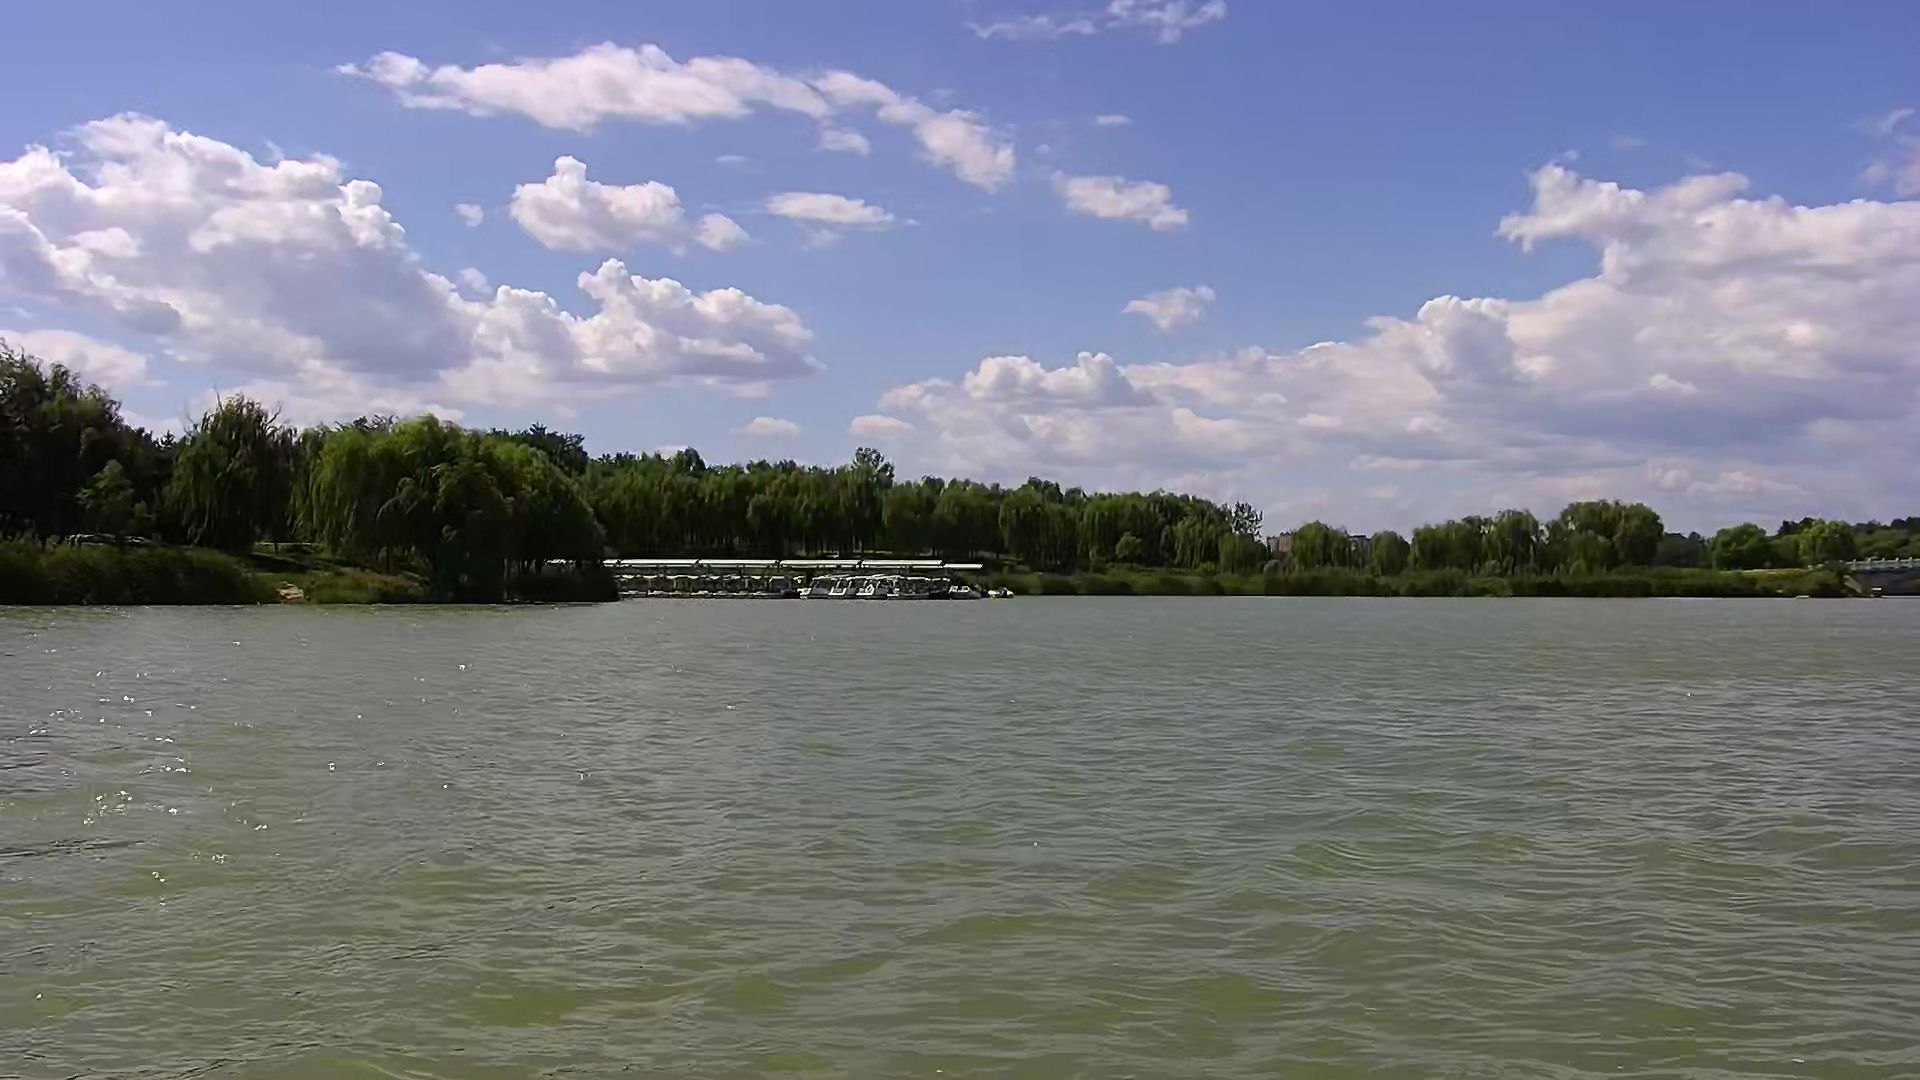harbor: (603, 558, 1011, 603)
